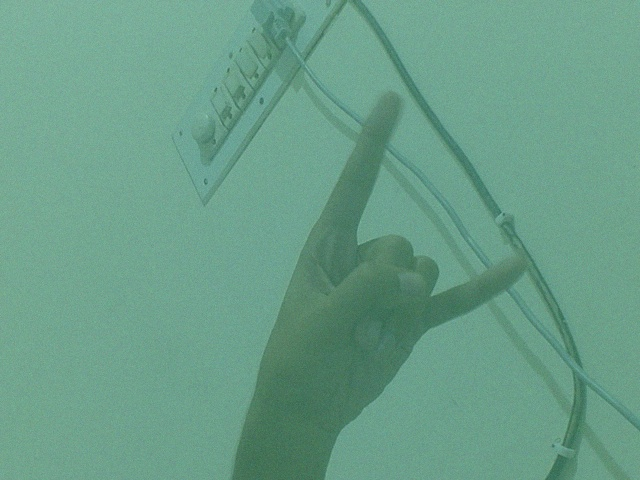hand: (255, 89, 534, 441)
